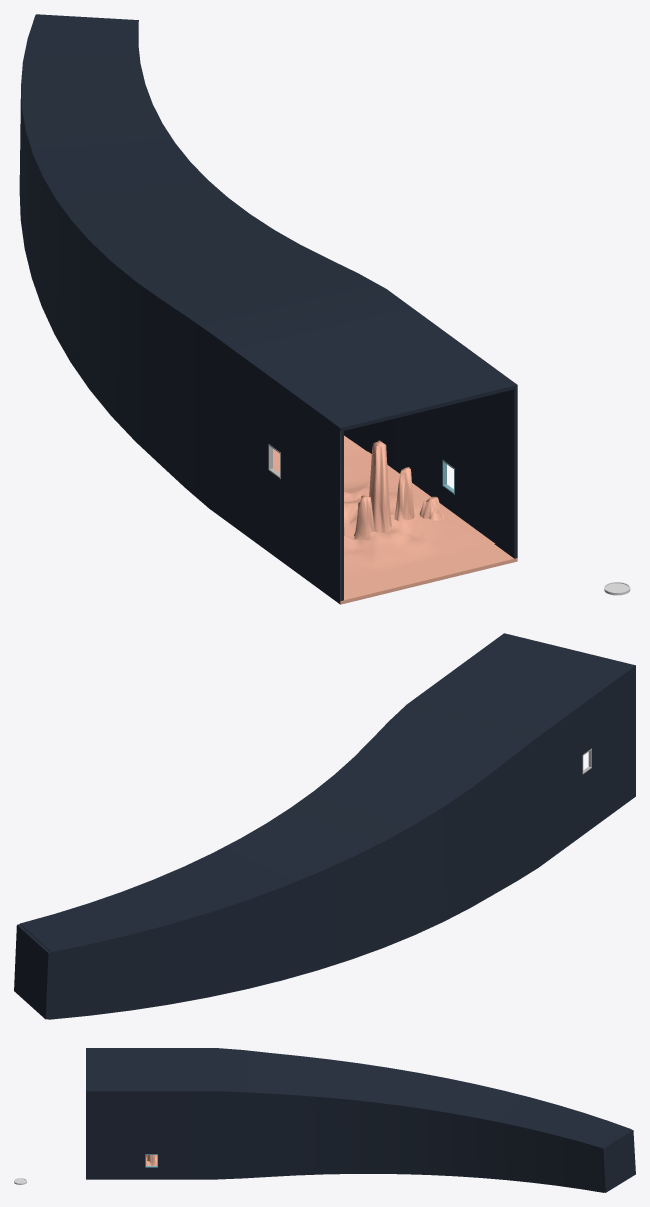
Rendered from blender version.fbx.
The picture shows the model from 3 angles, top to bottom: view 1: azimuth 30°, elevation 25°; view 2: azimuth 150°, elevation 25°; view 3: azimuth 270°, elevation 25°; orthographic projection. The views are drawn at different scales.
Parts seen in each view (by area): view 1: Cube_5_Null, Ground, Landscape_7; view 2: Cube_5_Null; view 3: Cube_5_Null.
Boxes of the visible parts, <box> form: Cube_5_Null: <box>19,14,517,604</box>; Ground: <box>344,451,494,580</box>; Landscape_7: <box>344,440,444,539</box>; Cube_5_Null: <box>14,633,635,1019</box>; Cube_5_Null: <box>86,1048,635,1192</box>.
Size of the model in its own units: 2792 by 1483 by 9478.
